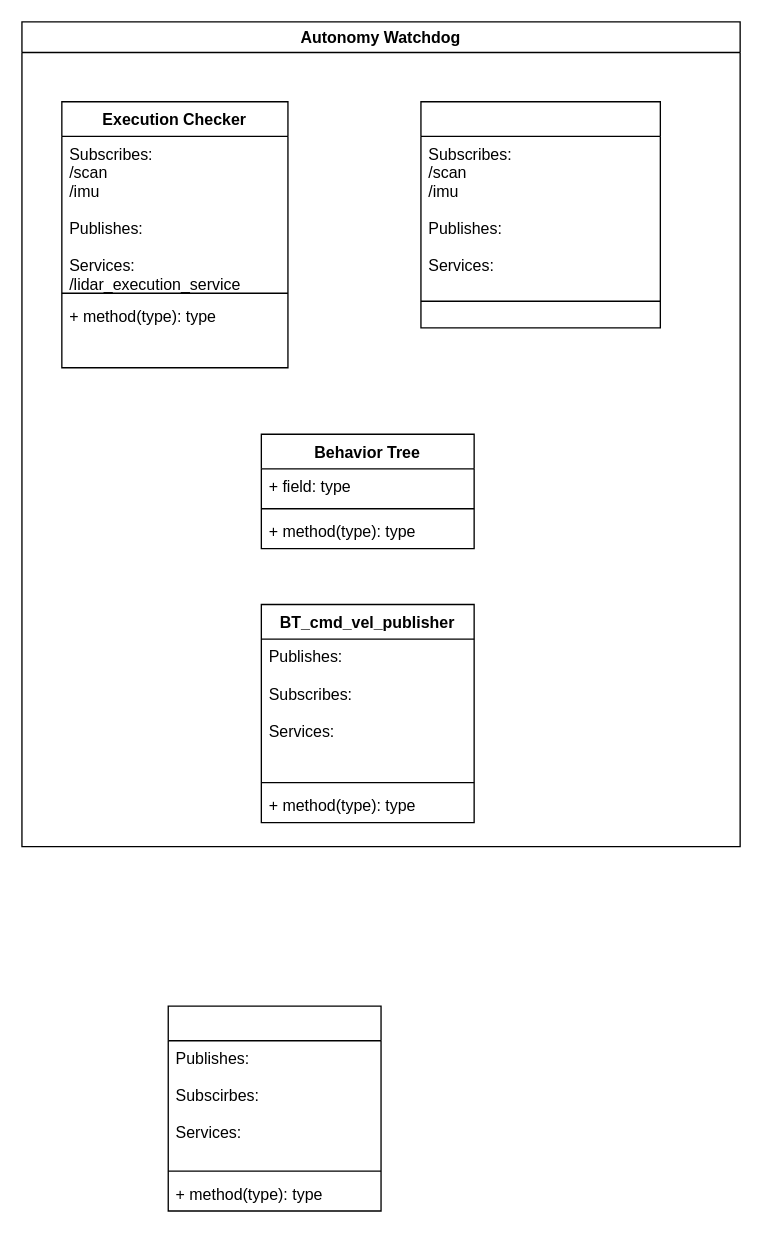
Some shapes in this 762 by 1233 pixel diagram are drawn without their labels. Here are the shapes that lost their labels. From the top down, the box of each, then its label:
(420, 100, 660, 328): Driving Data Backup
(167, 1005, 381, 1211): cmd_vel_decision_gate
